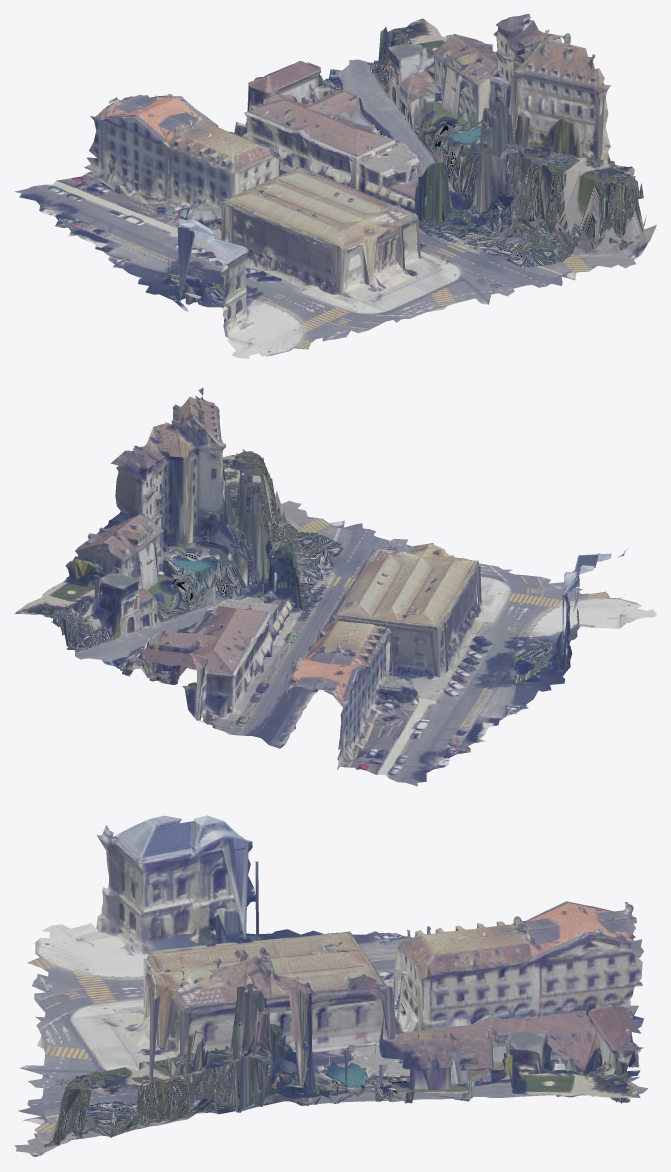
3 renders of one model, top to bottom at view 1: azimuth 30°, elevation 25°; view 2: azimuth 150°, elevation 25°; view 3: azimuth 270°, elevation 25°, orthographic. The views are drawn at different scales.
Size of the model in its own units: 106 by 43.53 by 110.
Materials: 1 (1 with a texture image).
